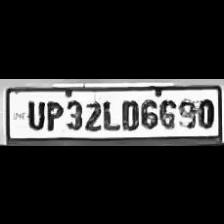0: (196, 95, 216, 127)
2: (82, 96, 102, 130)
3: (62, 96, 82, 130)
6: (139, 96, 157, 128), (158, 96, 176, 127)
9: (176, 96, 196, 127)
D: (118, 94, 140, 130)
L: (100, 96, 118, 130)
P: (42, 96, 62, 130)
U: (23, 96, 44, 128)
